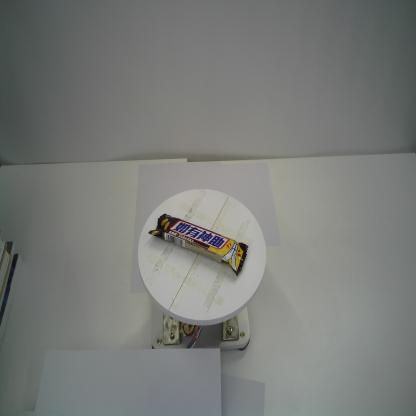Chocolate: (147, 213, 249, 277)
